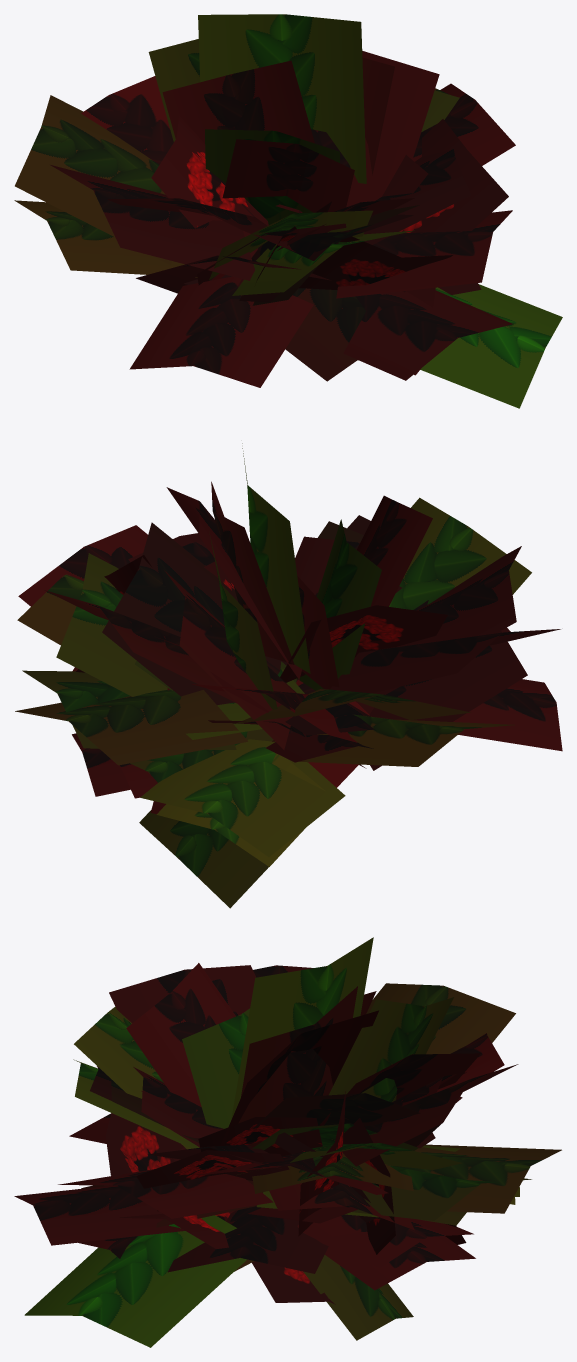
Rendered from veg_bush3_far.glb.
3 views of the same model, one above another, from view 1: azimuth 30°, elevation 25°; view 2: azimuth 150°, elevation 25°; view 3: azimuth 270°, elevation 25° (orthographic). The views are drawn at different scales.
Parts seen in each view (by area): view 1: bush_3; view 2: bush_3; view 3: bush_3.
Boxes of the visible parts, x1,y1,x2,y2 form: bush_3: (14,14,562,408); bush_3: (15,443,562,908); bush_3: (14,937,561,1347).
Size of the model in its own units: 2.79 by 2.28 by 3.05.
Materials: 1 (1 with a texture image).
